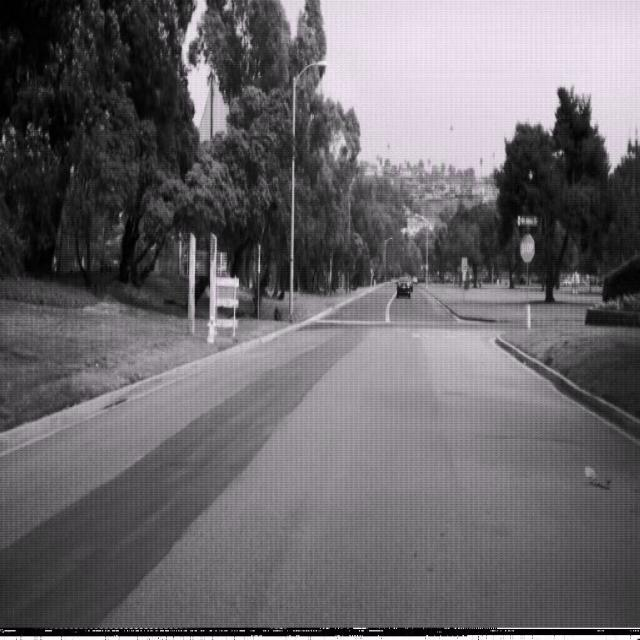stop: (519, 232, 535, 264)
